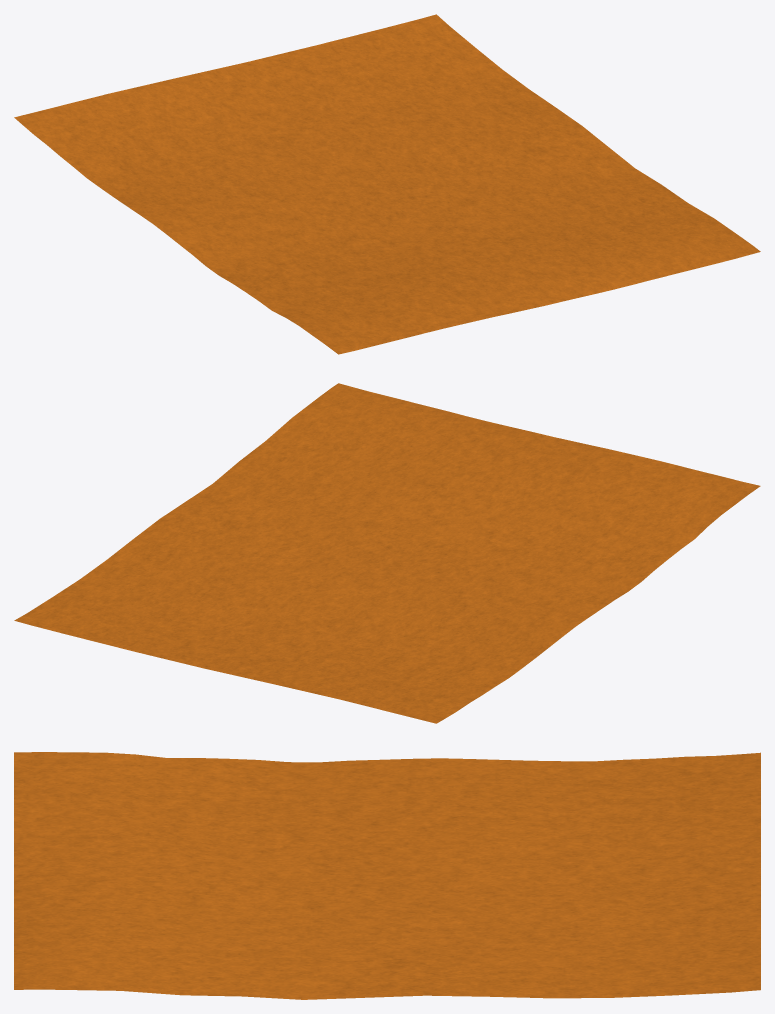
The model's file is pustynia.obj.
The picture shows the model from 3 angles, top to bottom: view 1: azimuth 30°, elevation 25°; view 2: azimuth 150°, elevation 25°; view 3: azimuth 270°, elevation 25°; orthographic projection. The views are drawn at different scales.
Visible parts, largest first — view 1: Plane; view 2: Plane; view 3: Plane.
Boxes of the visible parts, x1,y1,x2,y2 form: Plane: (14,14,760,354); Plane: (14,383,760,723); Plane: (14,752,760,999).
Size of the model in its own units: 198 by 4.28 by 263.
1 material, 1 textured.
